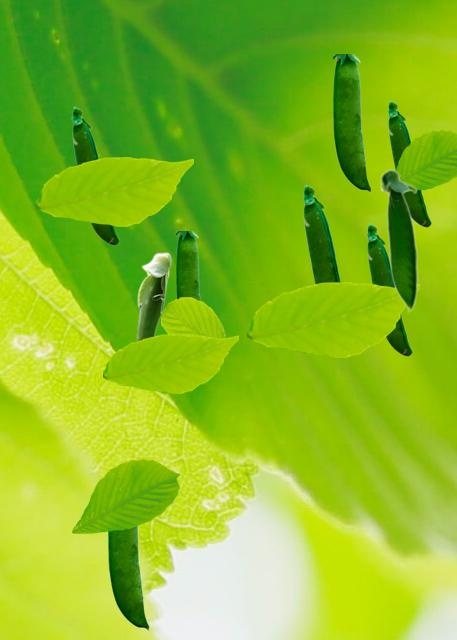pea: (71, 106, 118, 244), (366, 223, 411, 355), (379, 168, 417, 313), (387, 100, 430, 226), (333, 54, 370, 192), (108, 526, 148, 630), (302, 184, 341, 283), (136, 252, 171, 340), (176, 231, 200, 299)
